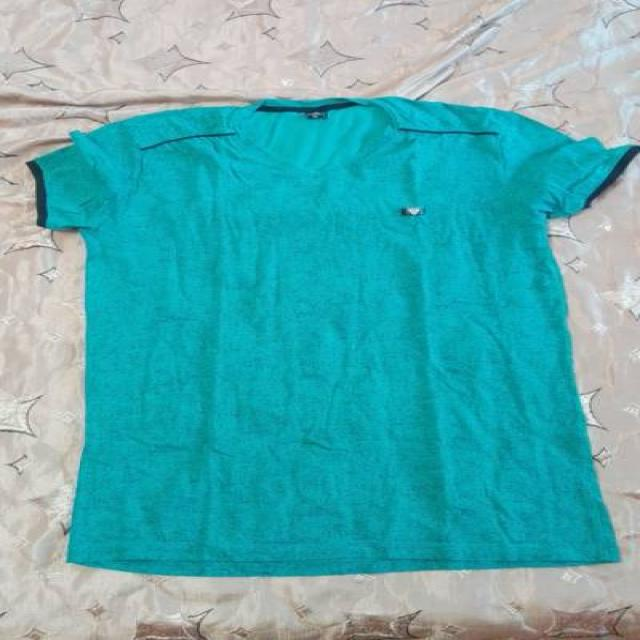Clothes -Biodegradable-: (27, 95, 640, 575)
